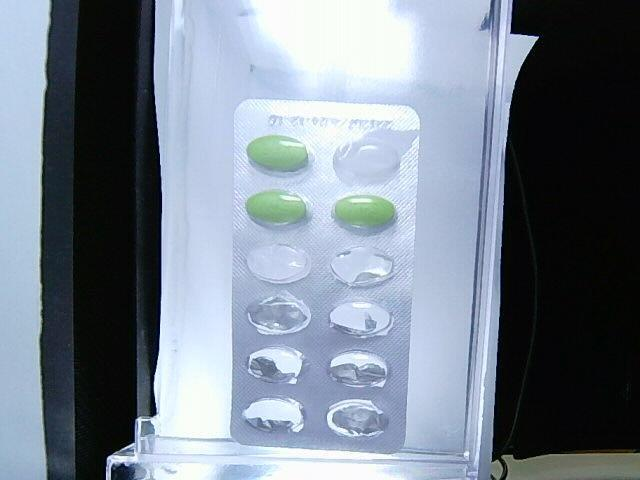Light Front: (229, 99, 422, 456)
No Pill Front: (334, 129, 417, 183), (248, 291, 311, 334), (246, 244, 311, 284), (330, 246, 393, 286), (330, 299, 393, 337), (326, 400, 388, 437), (248, 345, 305, 383), (243, 398, 305, 432), (329, 351, 387, 387)
Pill Front: (331, 194, 396, 232), (245, 190, 310, 227), (248, 135, 308, 171)
